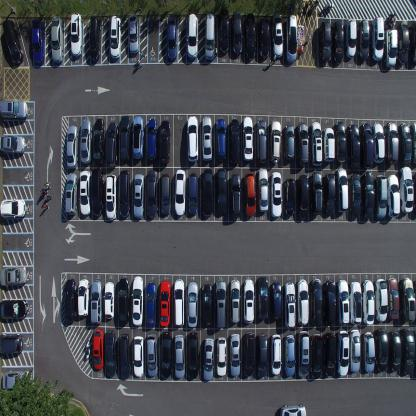car: (1, 18, 24, 64), (400, 327, 416, 377), (400, 277, 416, 323), (370, 15, 385, 61), (284, 14, 298, 63), (399, 166, 413, 214), (347, 123, 361, 169), (88, 15, 102, 61), (31, 20, 45, 66), (0, 99, 28, 122), (51, 15, 64, 64), (335, 167, 349, 212), (349, 281, 363, 326), (214, 280, 227, 328), (186, 114, 199, 162), (361, 121, 374, 169), (91, 167, 104, 215), (310, 278, 323, 326), (337, 279, 350, 327), (0, 133, 27, 156), (0, 197, 27, 220), (242, 332, 256, 376), (374, 278, 388, 322), (375, 328, 389, 372), (146, 168, 158, 219), (255, 118, 268, 165), (310, 332, 323, 379), (386, 278, 400, 321), (362, 330, 376, 373), (119, 168, 131, 218), (186, 13, 199, 59), (0, 265, 27, 287), (398, 122, 412, 164), (362, 171, 374, 220), (243, 172, 256, 217), (387, 173, 400, 218), (374, 174, 387, 219), (310, 171, 323, 216), (0, 299, 29, 319), (1, 370, 30, 390), (159, 279, 171, 327), (174, 168, 186, 216), (173, 278, 185, 326), (160, 332, 172, 380), (216, 168, 228, 216), (228, 118, 240, 166), (297, 172, 309, 220), (93, 117, 105, 165), (272, 12, 284, 60), (204, 12, 216, 60), (105, 330, 117, 378), (64, 276, 76, 324), (297, 279, 309, 327), (297, 330, 309, 378), (334, 120, 347, 164), (385, 120, 398, 164), (357, 18, 370, 62), (132, 172, 144, 219), (105, 173, 117, 220), (80, 118, 92, 165), (284, 281, 296, 328), (362, 278, 374, 325), (337, 329, 349, 376), (132, 275, 143, 326), (319, 20, 332, 63), (229, 278, 241, 324), (270, 172, 282, 218), (349, 173, 361, 219), (332, 20, 344, 66), (70, 11, 82, 57), (119, 334, 131, 380), (324, 279, 336, 325), (324, 332, 336, 378), (202, 168, 213, 218), (173, 334, 185, 379), (159, 119, 171, 164), (257, 167, 269, 212), (297, 121, 309, 166), (106, 121, 118, 166), (231, 10, 243, 55), (218, 8, 230, 53), (90, 279, 102, 324), (243, 279, 255, 324), (244, 12, 255, 61), (372, 123, 385, 164), (160, 171, 172, 215), (187, 280, 198, 328), (187, 332, 198, 380), (146, 334, 158, 378), (201, 114, 212, 162), (118, 277, 129, 325), (132, 115, 144, 159), (242, 115, 253, 163), (310, 122, 322, 166), (323, 172, 335, 216), (65, 172, 77, 216), (397, 20, 409, 64), (166, 16, 178, 60), (256, 333, 268, 377), (349, 328, 361, 372), (0, 333, 25, 354), (384, 28, 397, 68), (145, 280, 156, 327), (120, 114, 131, 161), (230, 173, 241, 220), (132, 335, 144, 378), (200, 283, 212, 326), (269, 119, 281, 162), (66, 124, 78, 167), (283, 334, 295, 377), (389, 329, 401, 372), (79, 170, 90, 216), (258, 16, 270, 58), (92, 328, 104, 370), (110, 15, 121, 60), (344, 18, 356, 59), (128, 13, 140, 54), (203, 338, 214, 382), (230, 333, 241, 377), (146, 116, 157, 160), (77, 277, 89, 317), (103, 281, 115, 320), (270, 281, 282, 319), (216, 336, 227, 377), (323, 126, 335, 163), (188, 172, 198, 216), (258, 275, 268, 319), (283, 124, 295, 160), (284, 177, 295, 216), (216, 118, 226, 160), (271, 333, 281, 375), (408, 20, 416, 64), (279, 403, 306, 415), (410, 122, 416, 166), (412, 172, 416, 214)
